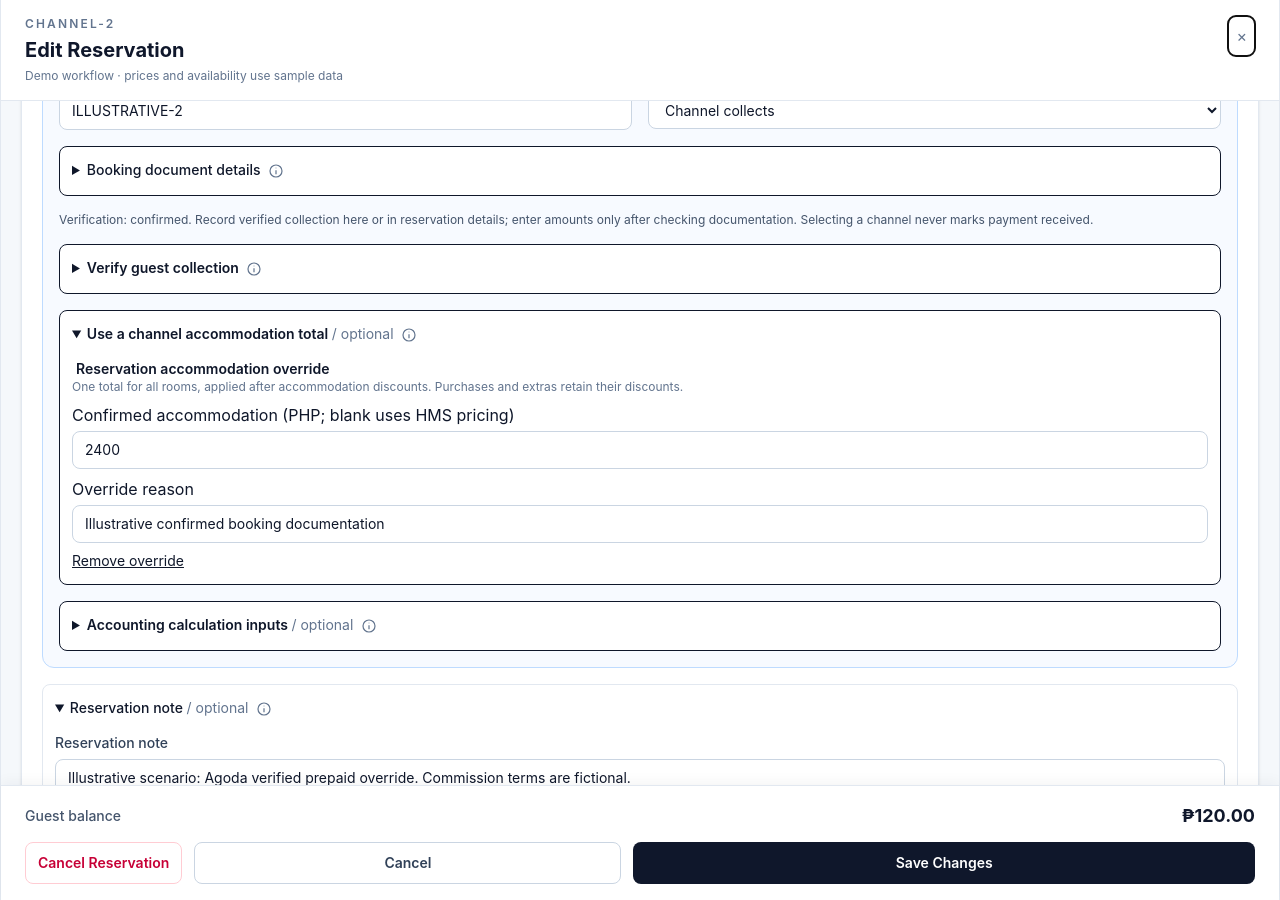
Scenario: channel screen integration › rejects invalid edited financial input instead of saving its previous valid amount
(page scrolled)
Replace the text in the field labelled "Confirmed accommodation (PHP; blank uses HMS pricing)" with "invalid" at (640, 450), box [72,431,1208,469]
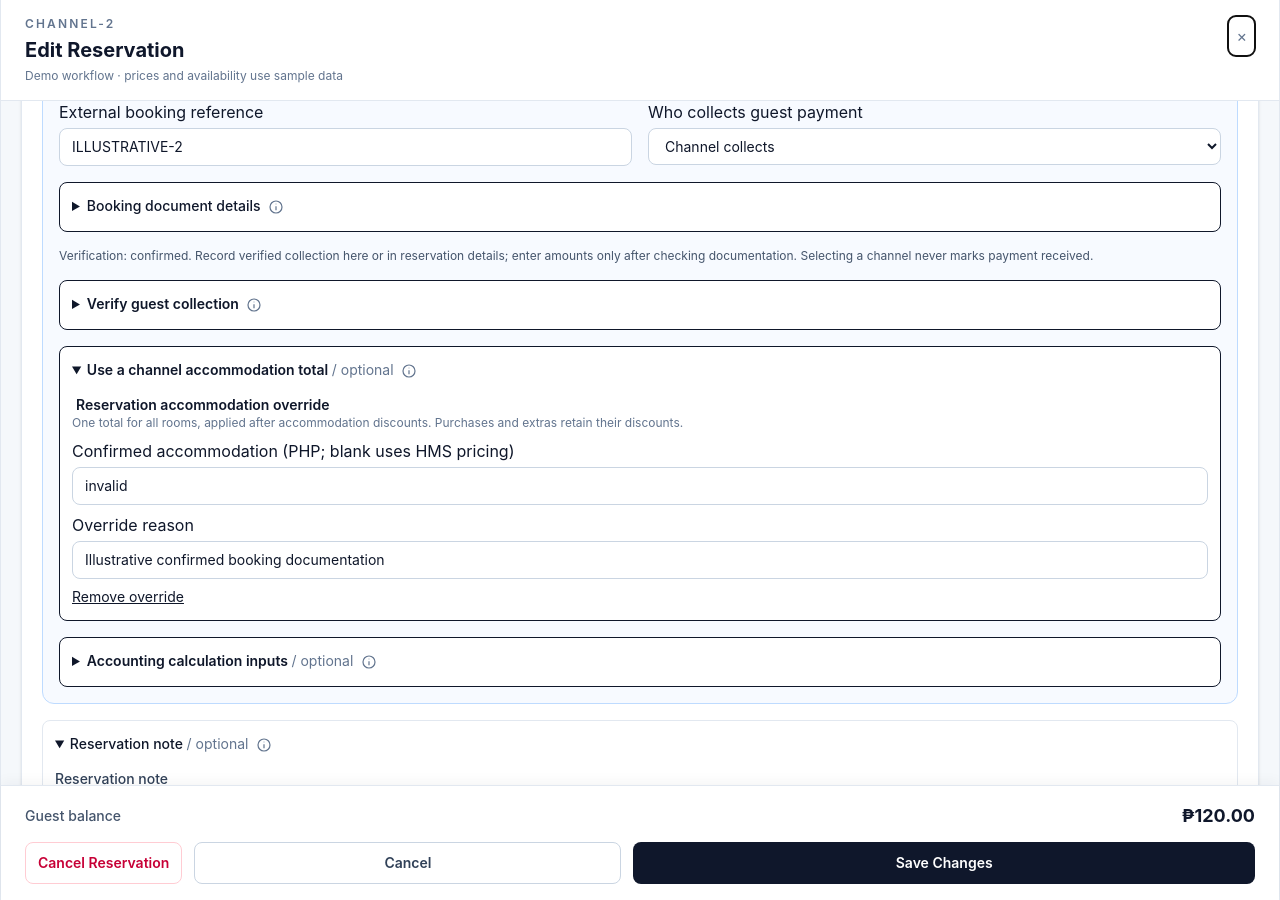
Click the button "Save Changes" at (944, 863), box [633,842,1255,884]
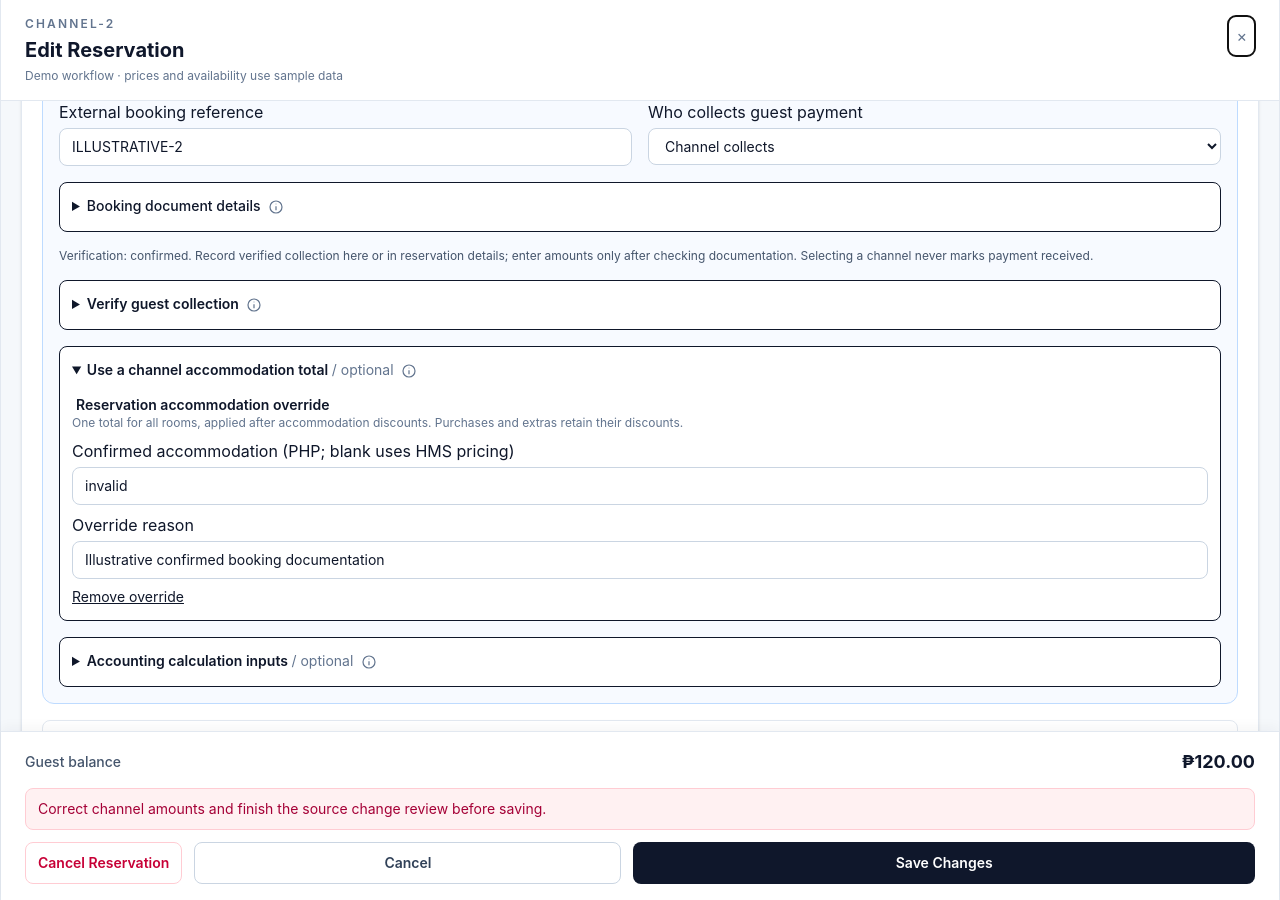
expect the text "Correct channel amounts and finish the source change review before saving." is shown: met, box [25,788,1255,830]
